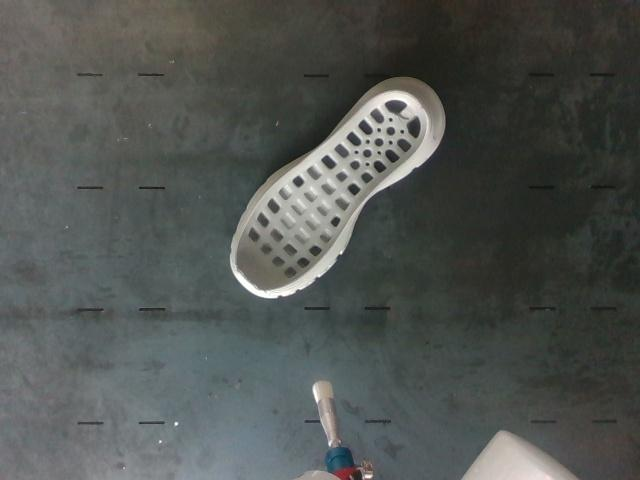shoes: (236, 90, 428, 292)
